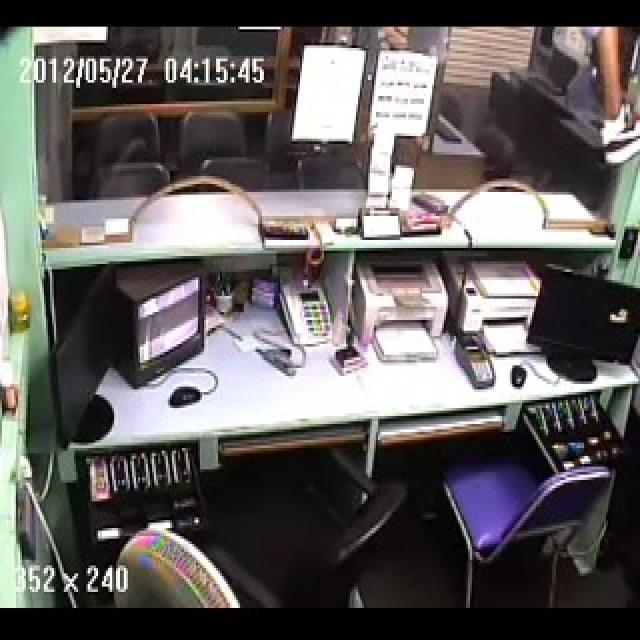thief: (558, 30, 640, 174)
